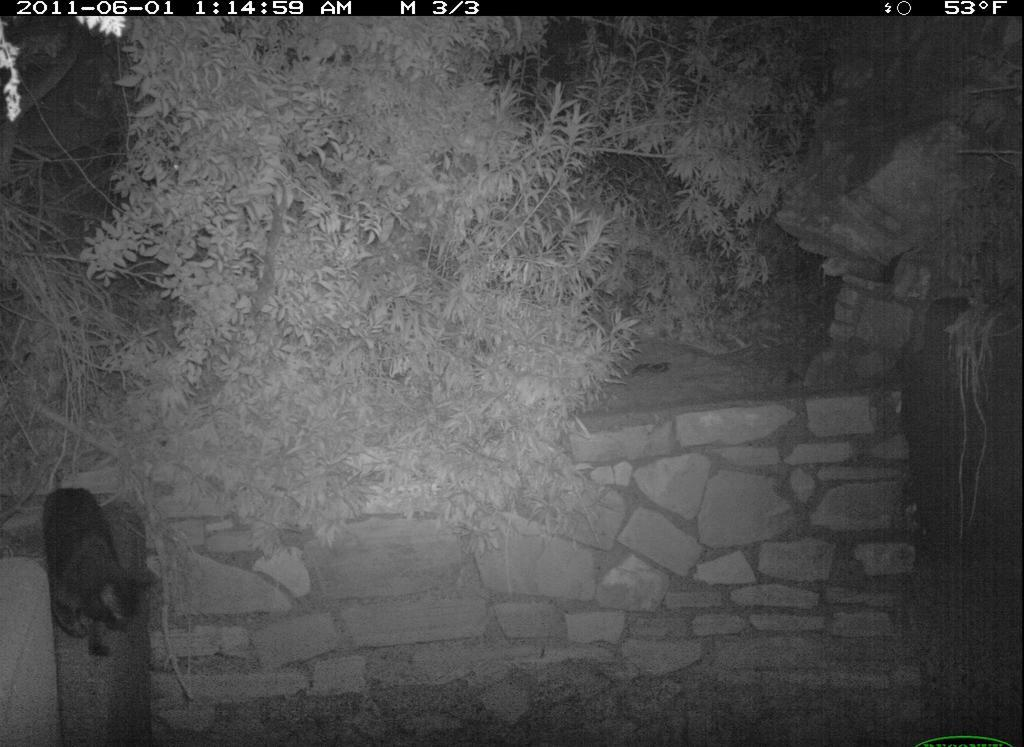cat: (29, 472, 175, 681)
